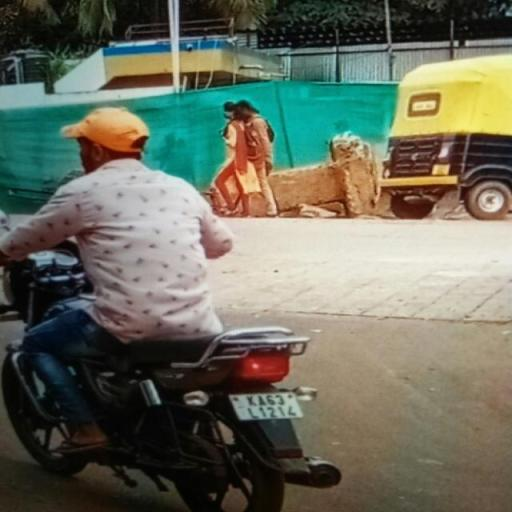bike: (4, 101, 346, 512)
numberplate: (231, 386, 307, 424)
withouthelmet: (78, 108, 144, 164)
